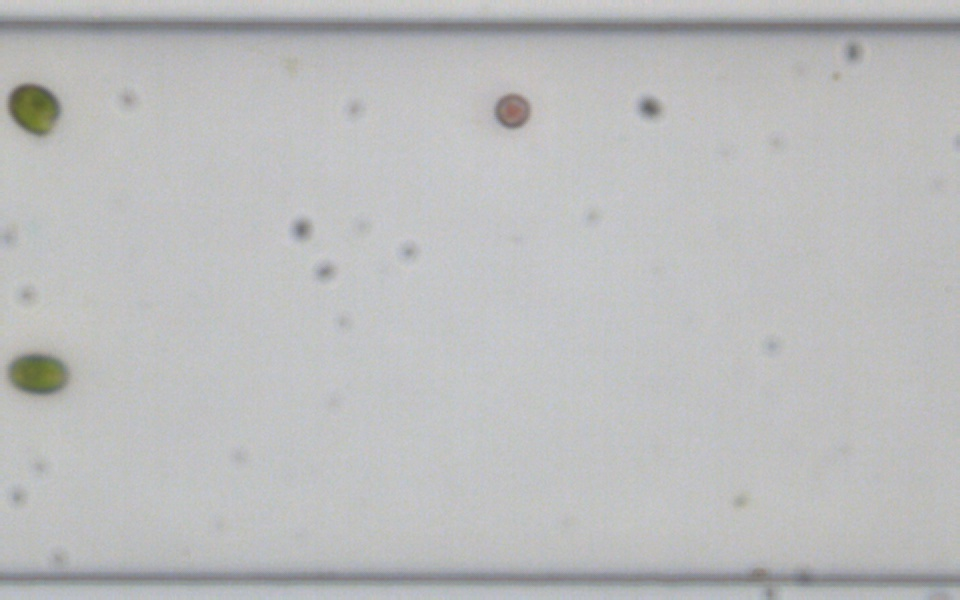Platymonas: (4, 78, 65, 141), (3, 350, 71, 395)
Porphyridium: (490, 90, 533, 129)
